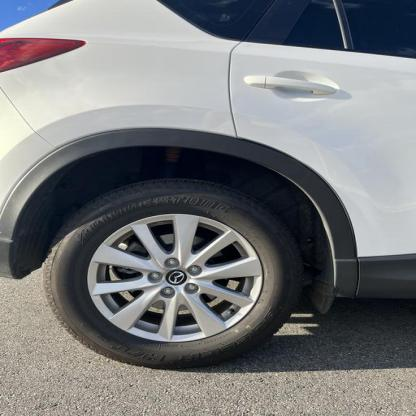Tire: (42, 177, 303, 369)
